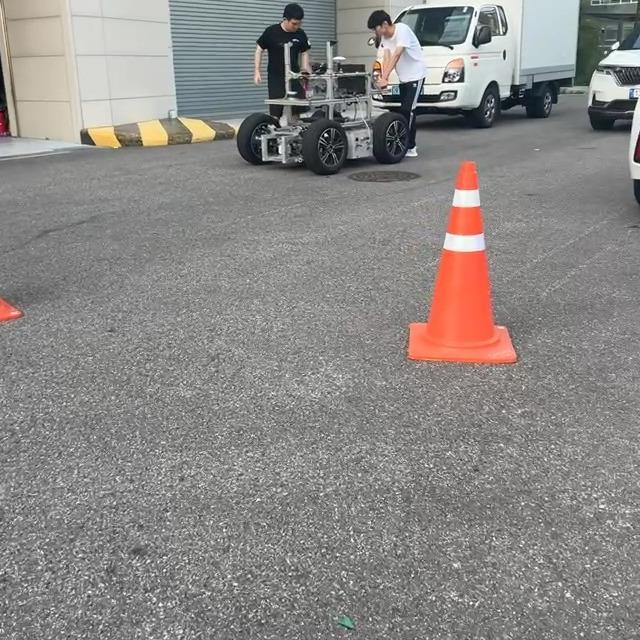fallen_object: (403, 165, 561, 362)
